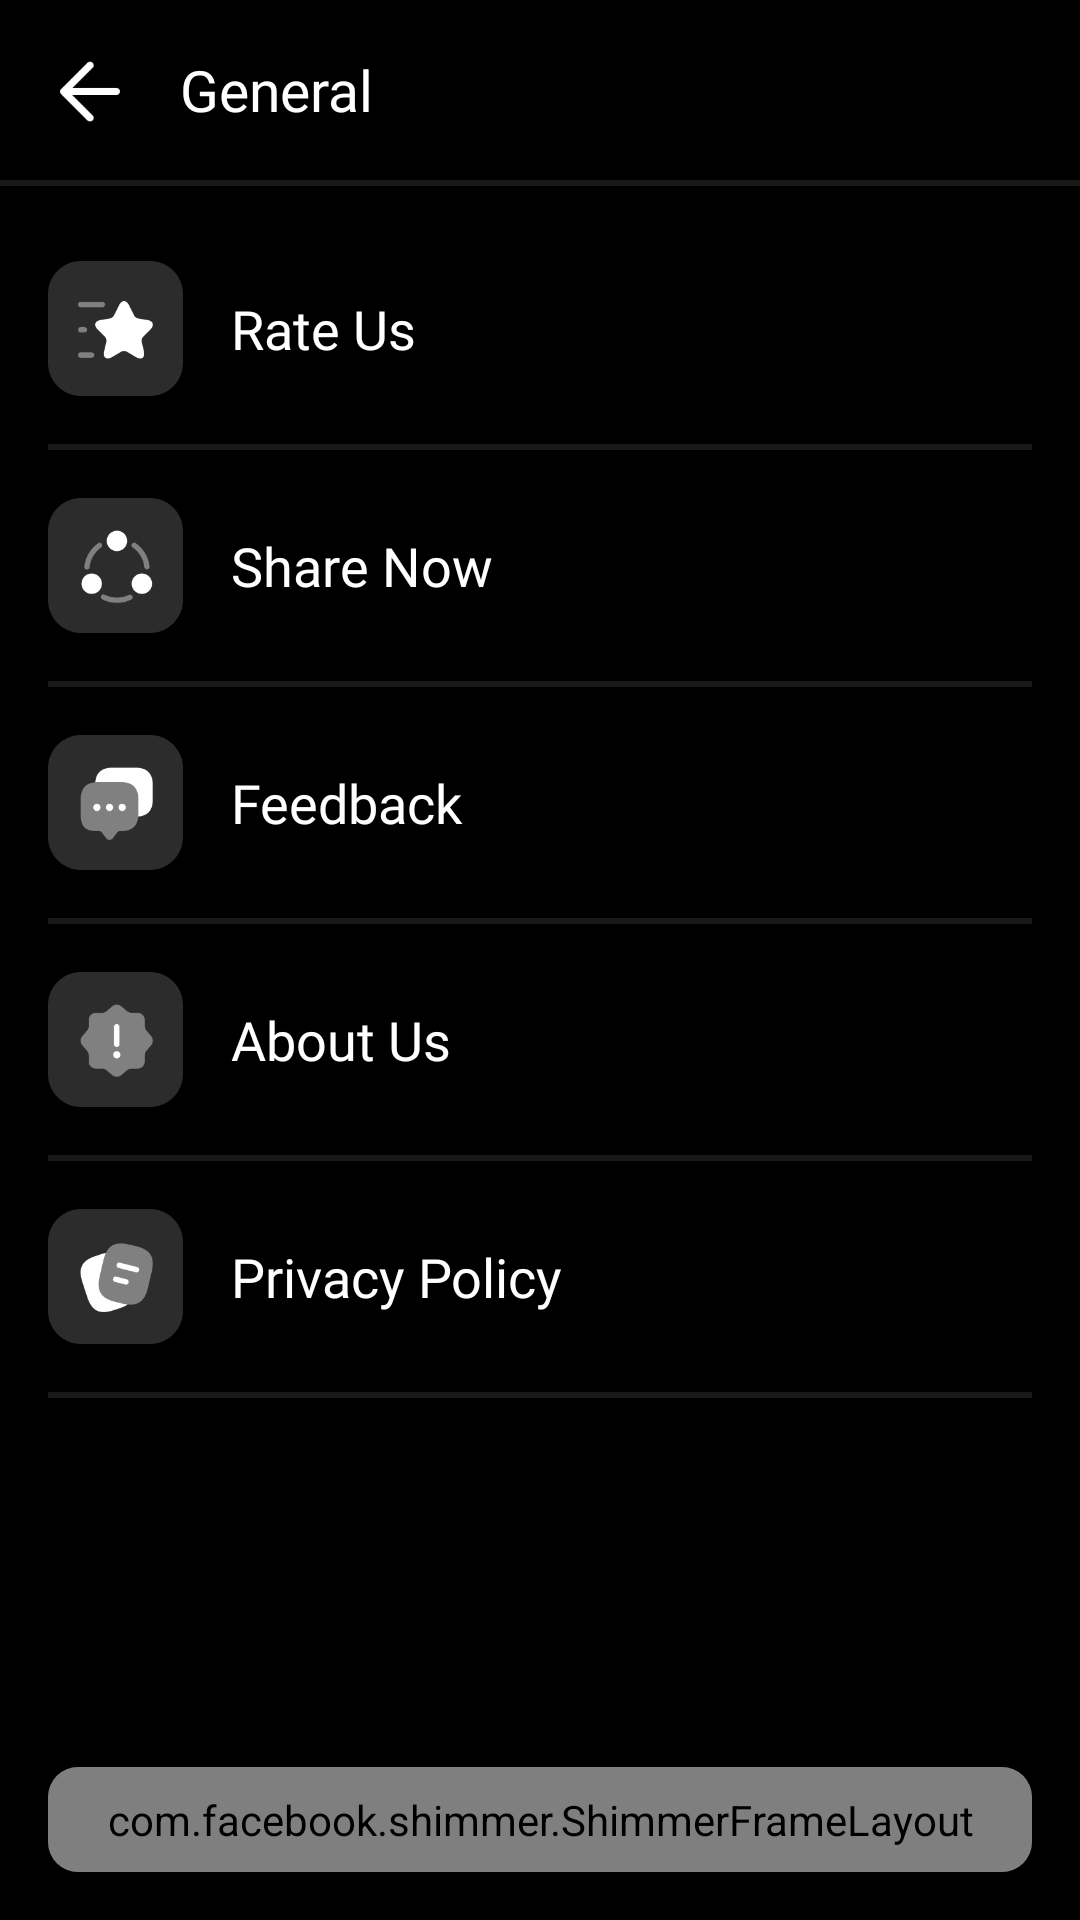

Icon click points for this 1080px×1920px phone screenshot, format point (x, y):
back: point (90, 91)
